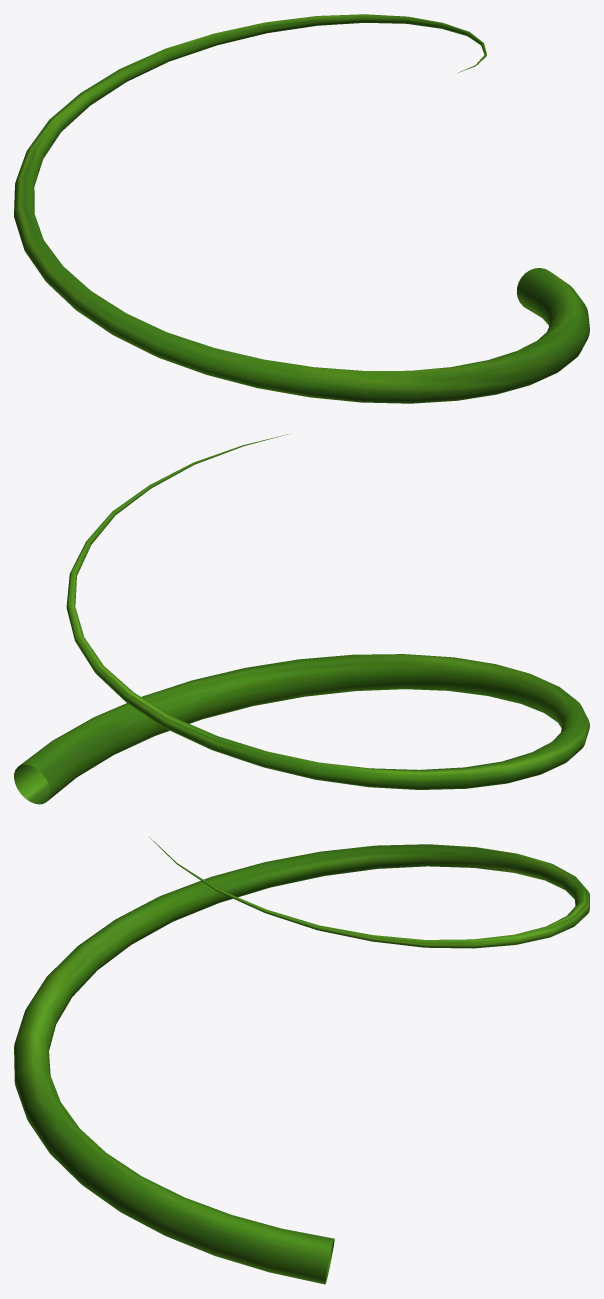
The model's file is 0443_tengman03.glb.
The picture shows the model from 3 angles, top to bottom: view 1: azimuth 30°, elevation 25°; view 2: azimuth 150°, elevation 25°; view 3: azimuth 270°, elevation 25°; orthographic projection. The views are drawn at different scales.
Bounding box in the file's own units: 2.2 × 1.39 × 2.
1 material, 1 textured.
